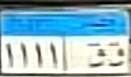1: (32, 35, 50, 67), (3, 39, 15, 68), (17, 42, 28, 67), (51, 39, 60, 69)
ق: (84, 37, 108, 69), (109, 37, 122, 71)
